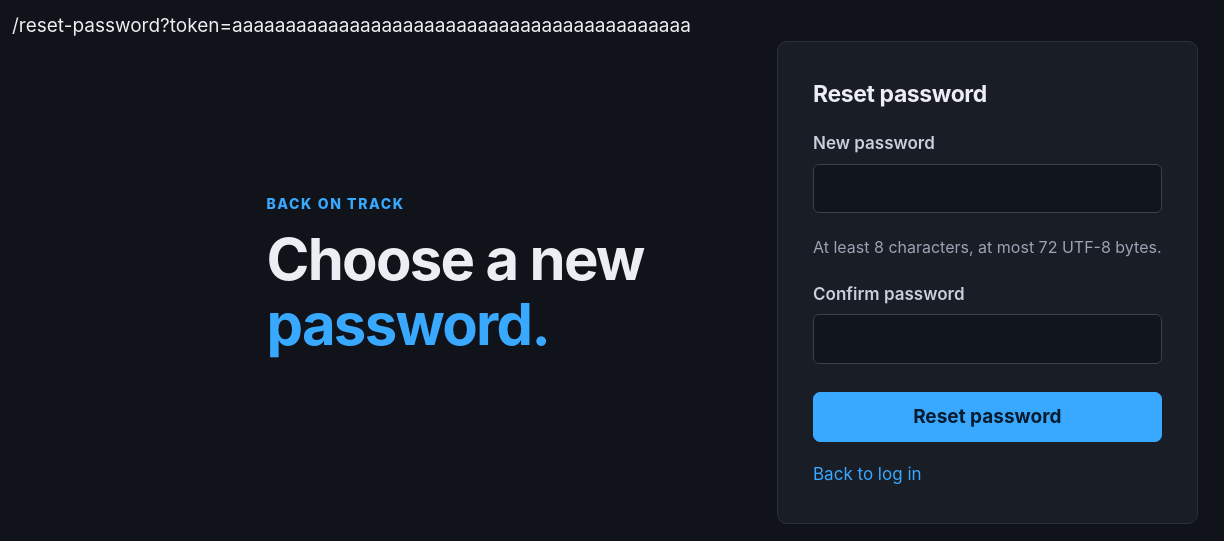
Test: submits a pending reset only once
Type "new-password" into the password field labelled "New password" at {"x": 987, "y": 188}, box [813, 164, 1162, 213]
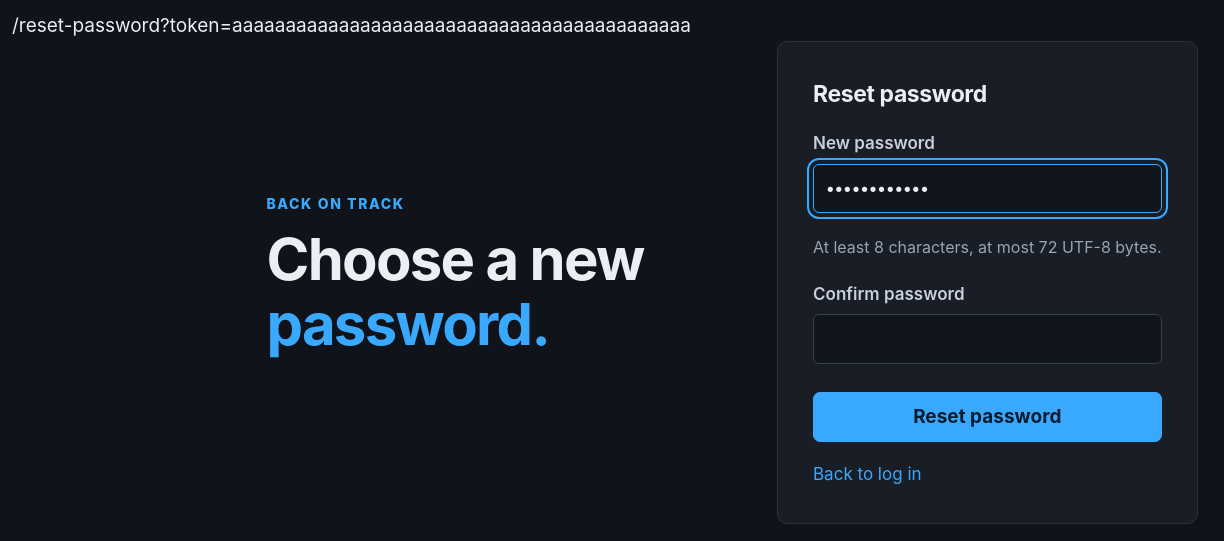
Type "new-password" into the password field labelled "Confirm password" at {"x": 987, "y": 339}, box [813, 314, 1162, 364]
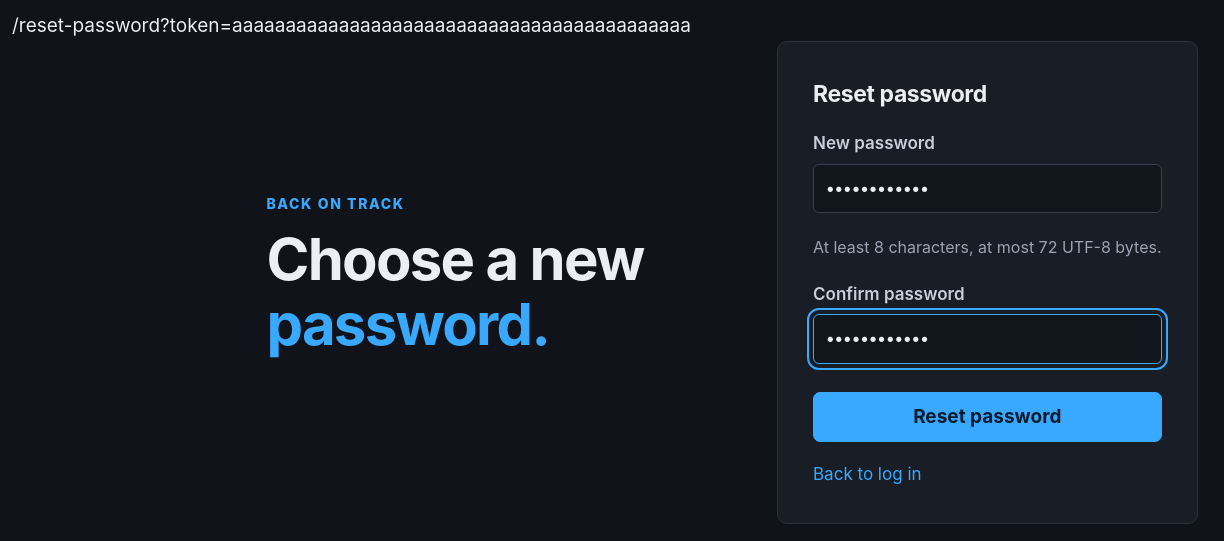
Submit the form "Reset password", box [777, 40, 1198, 524]
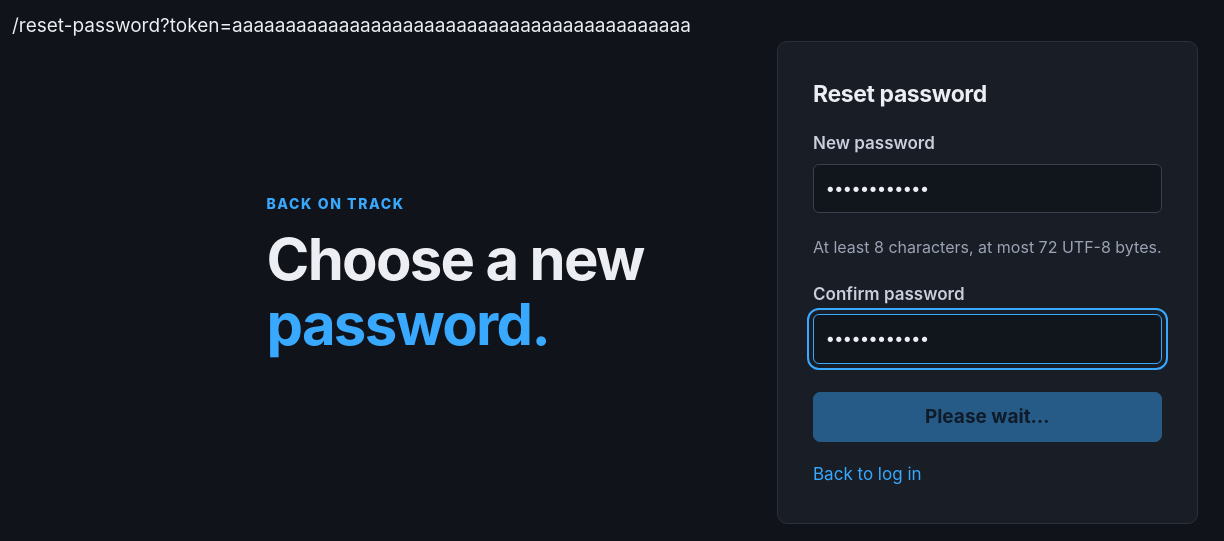
Submit the form "Reset password", box [777, 40, 1198, 524]
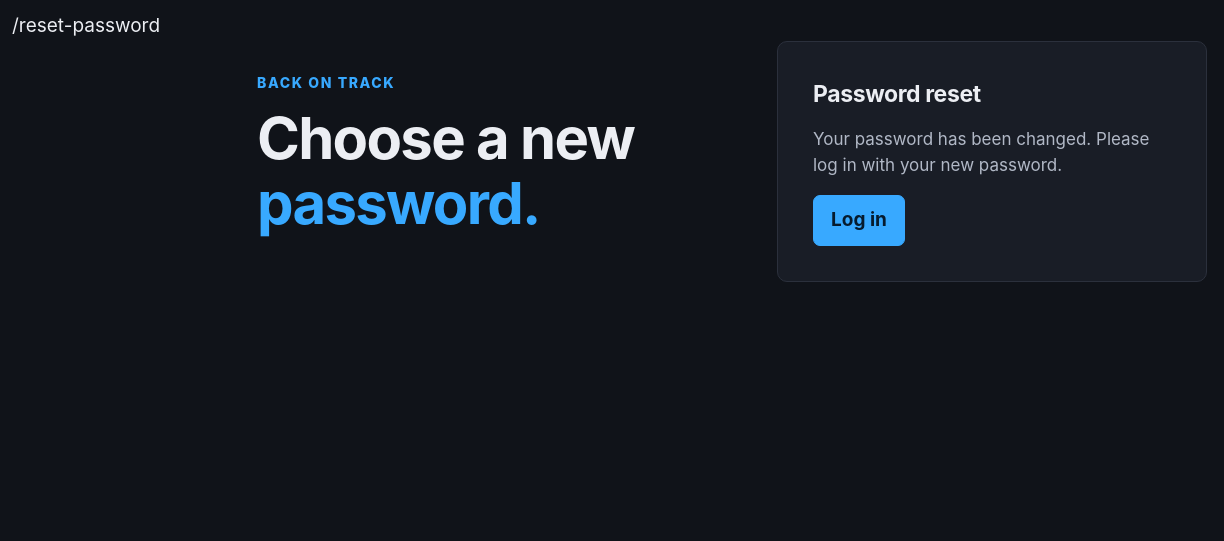
Expected: the message "Your password has been changed. Please log in with your new password." is shown, [813, 127, 1171, 178]
